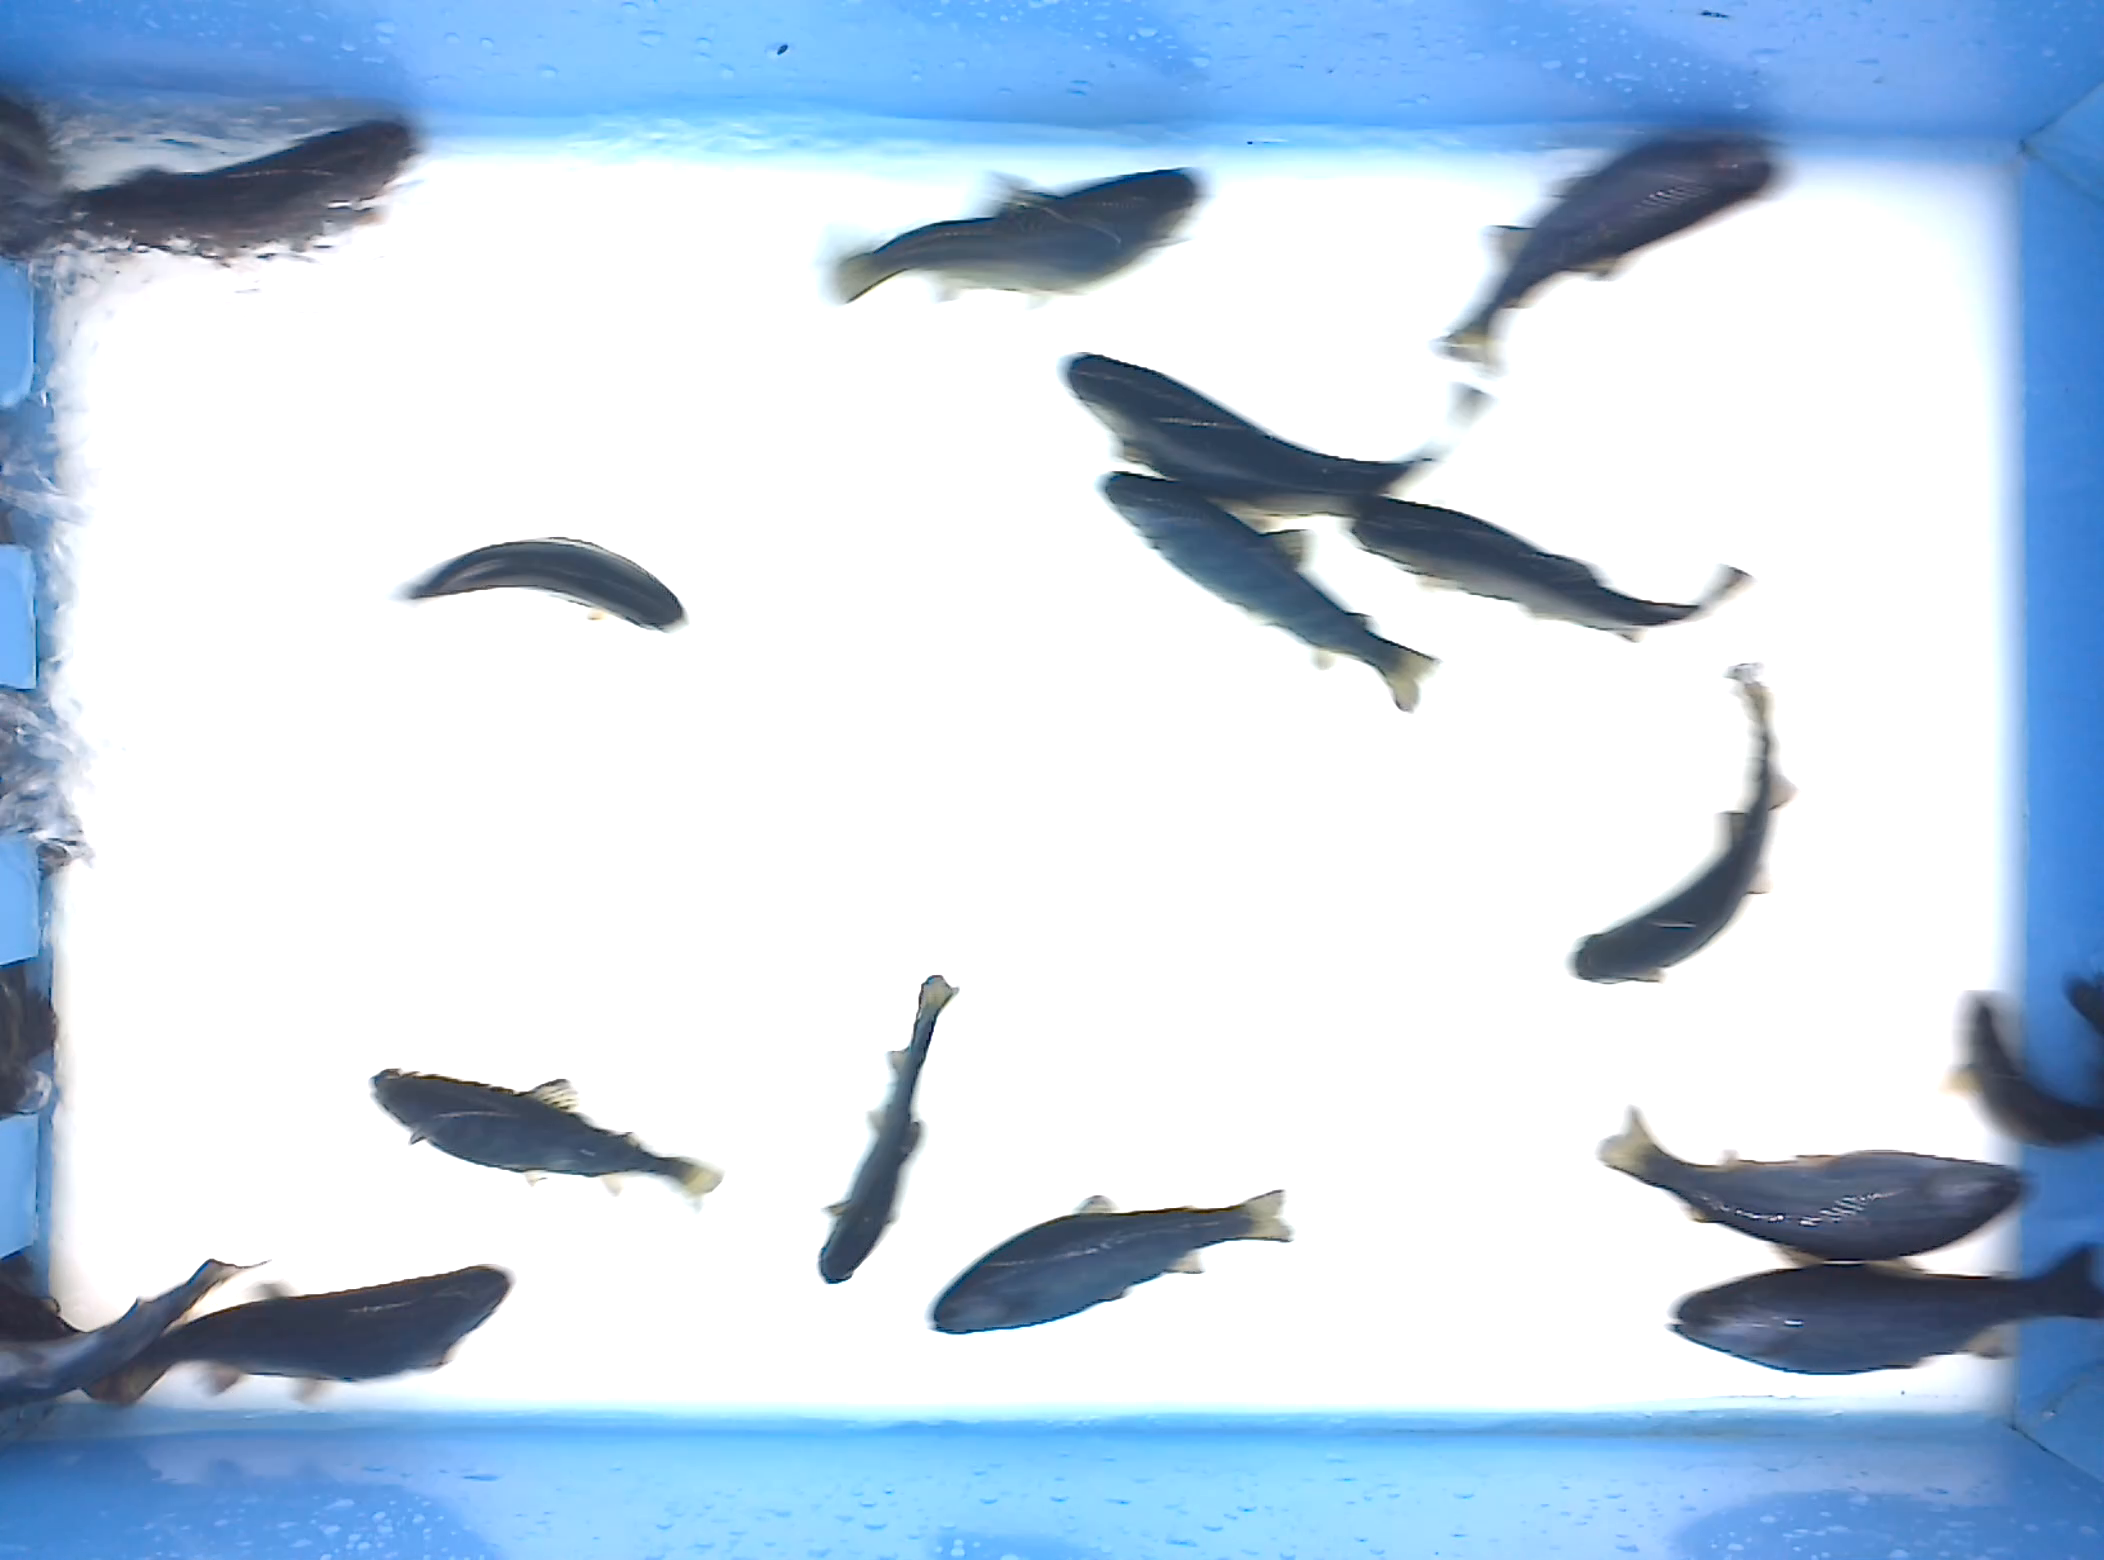fish: (1429, 129, 1802, 382), (1095, 469, 1445, 713), (1055, 349, 1496, 528), (1565, 660, 1801, 990), (1593, 1104, 2037, 1267), (2, 110, 419, 270), (1340, 487, 1753, 646), (1660, 1236, 2104, 1381), (98, 1263, 515, 1413), (816, 156, 1218, 310), (924, 1185, 1298, 1339), (367, 1063, 724, 1216), (818, 972, 962, 1286), (392, 533, 693, 637)
